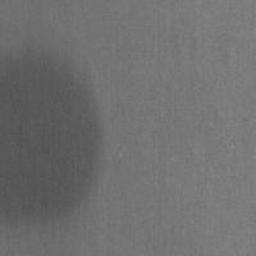Oil spot: (0, 37, 108, 233)
